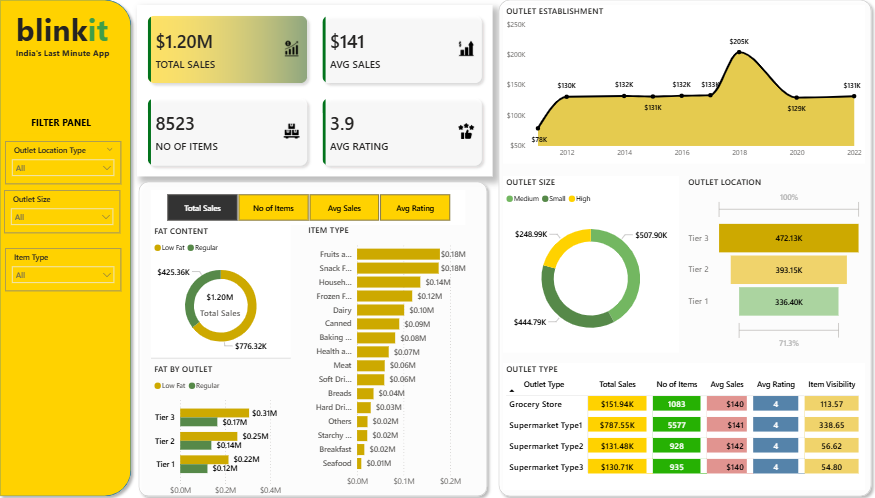

The dashboard page shown, as its layout file describes it:
{"tool":"powerbi","page":{"name":"Blinkit","canvas":[1400,800],"ordinal":0},"visuals":[{"type":"shape","box":[10,0,225,800],"z":0},{"type":"textbox","box":[25,16.7,183.3,78.3],"z":1000},{"type":"textbox","box":[0,78.3,235,31.7],"z":2000},{"type":"cardVisual","fields":{"Data":["BlinkIT Grocery Data.Total Sales","BlinkIT Grocery Data.Avg Sales","BlinkIT Grocery Data.No of Items","BlinkIT Grocery Data.Avg Rating"]},"box":[235,16.7,560,270],"z":3000},{"type":"shape","box":[228.3,286.7,566.7,513.3],"z":4000},{"type":"slicer","fields":{"Values":["Metric.Metric"]},"box":[256.7,308.3,495,55],"z":5000},{"type":"donutChart","title":"FAT CONTENT","fields":{"Y":["BlinkIT Grocery Data.Total Sales"],"Category":["BlinkIT Grocery Data.Item Fat Content"]},"box":[256.7,363.3,220,210],"z":6000},{"type":"cardVisual","fields":{"Data":["BlinkIT Grocery Data.Total Sales"]},"box":[308.7,450.4,115,69.3],"z":7000},{"type":"clusteredBarChart","title":"FAT BY OUTLET","fields":{"Y":["BlinkIT Grocery Data.Total Sales"],"Category":["BlinkIT Grocery Data.Outlet Location Type"],"Series":["BlinkIT Grocery Data.Item Fat Content"]},"box":[256.7,581.7,220,218.3],"z":8000},{"type":"shape","box":[256.7,565,220,16.7],"z":9000},{"type":"barChart","title":"ITEM TYPE","fields":{"Y":["BlinkIT Grocery Data.Total Sales"],"Category":["BlinkIT Grocery Data.Item Type"]},"box":[498.5,362.7,274.6,423.9],"z":10000},{"type":"shape","box":[795,0,605,800],"z":11000},{"type":"lineChart","title":" OUTLET ESTABLISHMENT","fields":{"Category":["BlinkIT Grocery Data.Outlet Establishment Year"],"Y":["BlinkIT Grocery Data.Total Sales"]},"box":[811.7,16.7,570,250],"z":12000},{"type":"donutChart","title":"OUTLET SIZE","fields":{"Y":["BlinkIT Grocery Data.Total Sales"],"Category":["BlinkIT Grocery Data.Outlet Size"]},"box":[811.7,286.7,276.7,278.3],"z":13000},{"type":"funnel","title":"OUTLET LOCATION","fields":{"Y":["Sum(BlinkIT Grocery Data.Sales)"],"Category":["BlinkIT Grocery Data.Outlet Location Type"]},"box":[1098.3,286.7,283.3,278.3],"z":14000},{"type":"pivotTable","title":"OUTLET TYPE","fields":{"Rows":["BlinkIT Grocery Data.Outlet Type"],"Values":["BlinkIT Grocery Data.Total Sales","BlinkIT Grocery Data.No of Items","BlinkIT Grocery Data.Avg Sales","BlinkIT Grocery Data.Avg Rating","Sum(BlinkIT Grocery Data.Item Visibility)"]},"box":[811.7,581.7,570,200],"z":15000},{"type":"slicer","fields":{"Values":["BlinkIT Grocery Data.Outlet Location Type"]},"box":[26.7,231.7,183.3,68.3],"z":16000},{"type":"slicer","fields":{"Values":["BlinkIT Grocery Data.Outlet Size"]},"box":[25,308.3,183.3,68.3],"z":17000},{"type":"slicer","fields":{"Values":["BlinkIT Grocery Data.Item Type"]},"box":[26.7,400,183.3,68.3],"z":18000},{"type":"textbox","box":[41.7,186.7,148.3,31.7],"z":19000}]}

Visuals, with their boxes in screenshot pixels (x1, y1, x2, y2), scaled from the page's 1400x800 canvas onto the 875x498 screenshot:
shape: crop(6, 0, 147, 497)
textbox: crop(16, 10, 130, 59)
textbox: crop(0, 49, 147, 68)
cardVisual - BlinkIT Grocery Data.Total Sales x BlinkIT Grocery Data.Avg Sales: crop(147, 10, 497, 178)
shape: crop(143, 178, 497, 497)
slicer - Metric.Metric: crop(160, 192, 470, 226)
"FAT CONTENT" donutChart: crop(160, 226, 298, 357)
cardVisual - BlinkIT Grocery Data.Total Sales: crop(193, 280, 265, 324)
"FAT BY OUTLET" clusteredBarChart: crop(160, 362, 298, 497)
shape: crop(160, 352, 298, 362)
"ITEM TYPE" barChart: crop(312, 226, 483, 490)
shape: crop(497, 0, 874, 497)
" OUTLET ESTABLISHMENT" lineChart: crop(507, 10, 864, 166)
"OUTLET SIZE" donutChart: crop(507, 178, 680, 352)
"OUTLET LOCATION" funnel: crop(686, 178, 864, 352)
"OUTLET TYPE" pivotTable: crop(507, 362, 864, 487)
slicer - BlinkIT Grocery Data.Outlet Location Type: crop(17, 144, 131, 187)
slicer - BlinkIT Grocery Data.Outlet Size: crop(16, 192, 130, 234)
slicer - BlinkIT Grocery Data.Item Type: crop(17, 249, 131, 292)
textbox: crop(26, 116, 119, 136)
